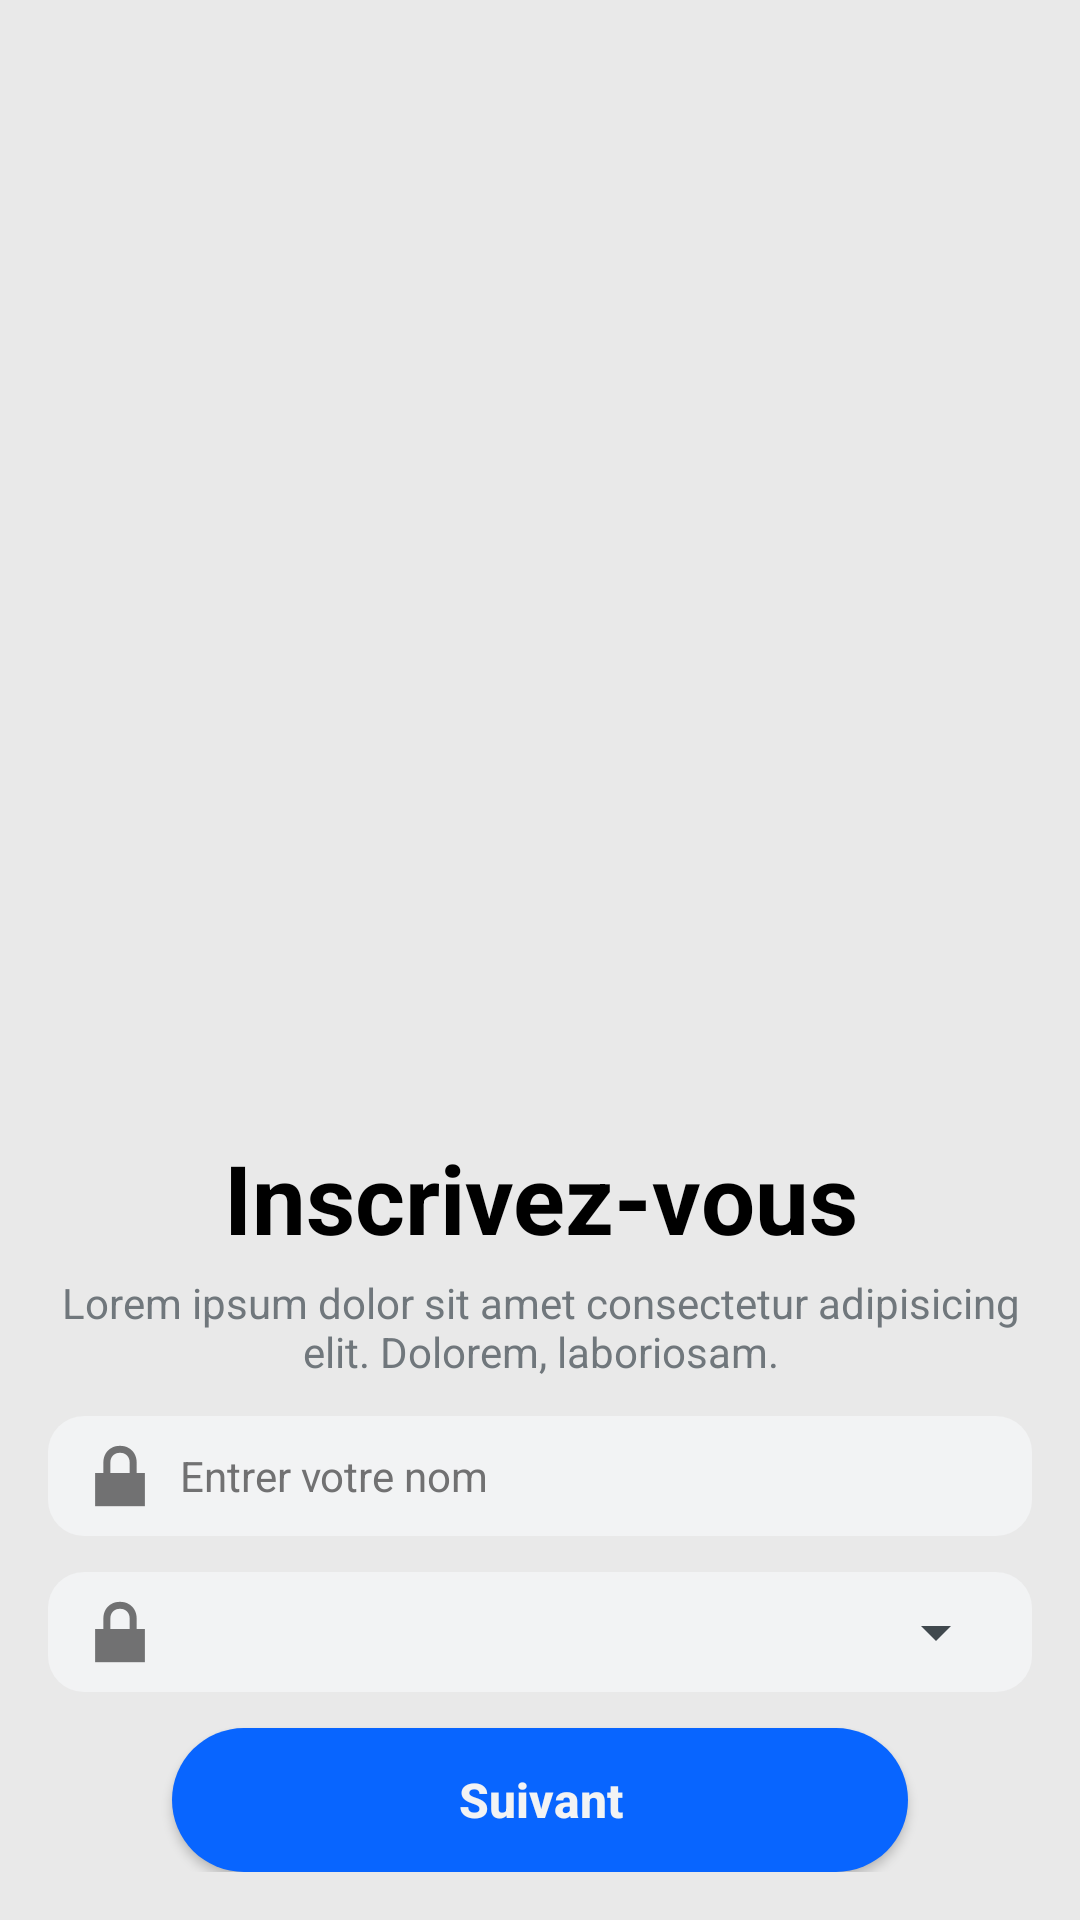

Locate icon controls on the screen. Image size 1080x1920, boxes as (x1=x1, y1=y1, x2=x2, y2=y2).
lock: (x1=95, y1=1445, x2=145, y2=1507), (x1=95, y1=1601, x2=145, y2=1663)
